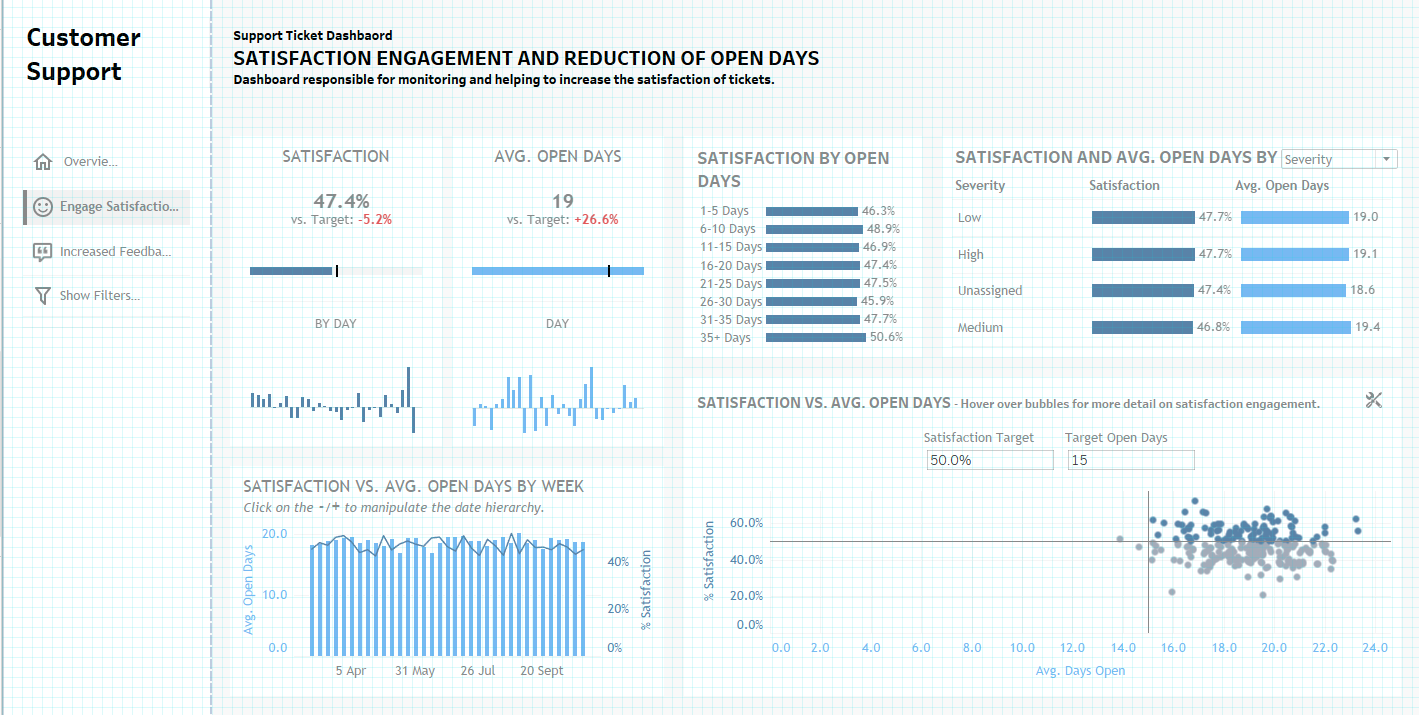

The page's visual inventory and layout, read from the dashboard file:
{"tool":"tableau","page":{"name":"Engage Satisfaction - Light","canvas":[1420,720],"ordinal":0},"visuals":[{"type":"text","box":[1,1,206,110]},{"type":"blank","box":[207,1,1,110]},{"type":"text","box":[208,1,1211,118]},{"type":"text","box":[970,87,265,60]},{"type":"blank","box":[1,111,207,32]},{"type":"blank","box":[221,129,450,125]},{"type":"text","box":[228,139,212,30]},{"type":"text","box":[450,139,212,30]},{"type":"text","box":[682,139,238,56]},{"type":"text","box":[940,139,336,36]},{"type":"parameter","param":"[Parameters].[Parâmetro 5]","box":[1276,139,123,36]},{"type":"blank","box":[970,147,265,7]},{"type":"blank","box":[21,148,4,35]},{"type":"image","param":"Image/Home.png","box":[25,148,30,35]},{"type":"dashboard-object","box":[55,148,75,35]},{"type":"blank","box":[130,148,58,35]},{"type":"text","box":[970,154,265,310]},{"type":"worksheet","title":"Engage Satisfaction Light - Satisfaction Engage","mark":"Square","box":[228,169,212,75]},{"type":"worksheet","title":"Engage Satisfaction Light -  Avg. Days Open","mark":"Square","box":[450,169,212,75]},{"type":"text","box":[950,175,134,27]},{"type":"text","box":[1084,175,146,27]},{"type":"text","box":[1230,175,159,27]},{"type":"blank","box":[21,193,4,35]},{"type":"image","param":"Image/Engage.png","box":[25,193,30,35]},{"type":"dashboard-object","box":[55,193,126,35]},{"type":"blank","box":[181,193,7,35]},{"type":"worksheet","title":"Engage Satisfaction Light - Tickets by Open Days","mark":"Bar","rows":["Calculation_390968786374774788"],"cols":["Calculation_719731557468495874"],"box":[682,195,238,165]},{"type":"worksheet","title":"Engage Satisfaction Light - Tickets by Satisfication Score","mark":"Automatic","rows":["Calculation_925771243168632832"],"cols":["Calculation_719731557468495874","days_open"],"box":[940,202,459,158]},{"type":"blank","box":[21,238,4,35]},{"type":"image","param":"Image/Feedback.png","box":[25,238,30,35]},{"type":"dashboard-object","box":[55,238,123,35]},{"type":"blank","box":[178,238,10,35]},{"type":"worksheet","title":"Engage Satisfaction Light - Satisfaction vs. Target","mark":"Bar","box":[228,244,212,60]},{"type":"worksheet","title":"Engage Satisfaction Light - Avg. Open Days vs. Target Bar","mark":"Bar","box":[450,244,212,60]},{"type":"blank","box":[1,278,207,1]},{"type":"blank","box":[21,284,4,30]},{"type":"image","param":"Image/Filter Menu.png","box":[25,284,30,30]},{"type":"dashboard-object","box":[55,284,88,30]},{"type":"blank","box":[143,284,45,30]},{"type":"blank","box":[215,302,473,57]},{"type":"blank","box":[228,304,212,1]},{"type":"blank","box":[450,304,212,1]},{"type":"worksheet","title":"Engage Satisfaction Light - Satisfaction MoM","mark":"Square","box":[228,305,212,52]},{"type":"worksheet","title":"Engage Satisfaction Light - Open Days MoM","mark":"Square","box":[450,305,212,52]},{"type":"blank","box":[1,319,207,6]},{"type":"parameter","param":"[Parameters].[Parâmetro 4]","box":[21,319,84,45]},{"type":"filter","title":"Engage Satisfaction Light -  Avg. Days Open","param":"[federated.0cysz861ktjxcq1fd9xv01acxm97].[none:Calculation_390968786373120002:ok","box":[105,319,83,45]},{"type":"blank","box":[1,325,207,11]},{"type":"blank","box":[1,336,207,383]},{"type":"worksheet","title":"Engage Satisfaction Light - Satisfaction MoM by Day","mark":"Bar","rows":["Calculation_526076775539757082"],"cols":["created_date"],"box":[228,357,212,92]},{"type":"worksheet","title":"Engage Satisfaction Light - Open Days MoM by Day","mark":"Bar","rows":["% Satisfied Month Var (cópia)_526076775546671138"],"cols":["created_date"],"box":[450,357,212,92]},{"type":"filter","title":"Engage Satisfaction Light -  Avg. Days Open","param":"[federated.0cysz861ktjxcq1fd9xv01acxm97].[none:severity:nk]","box":[21,364,167,45]},{"type":"text","box":[682,380,672,45]},{"type":"dashboard-object","box":[1354,380,45,45]},{"type":"filter","title":"Engage Satisfaction Light - Satisfaction Engage","param":"[federated.0cysz861ktjxcq1fd9xv01acxm97].[ticket status (grupo)]","box":[21,409,167,45]},{"type":"blank","box":[686,429,232,51]},{"type":"parameter","param":"[Parameters].[Parâmetro 3]","box":[918,429,141.5,51]},{"type":"parameter","param":"[Parameters].[Target Satisfaction (cópia)_526076775526744074]","box":[1059.5,429,141.5,51]},{"type":"blank","box":[1201,429,194,51]},{"type":"text","box":[228,469,434,50]},{"type":"worksheet","title":"Engage Satisfaction Light - Satisfaction vs, Avg Days Open","mark":"Circle","rows":["Calculation_719731557468495874"],"cols":["days_open"],"box":[682,484,717,215]},{"type":"worksheet","title":"Engage Satisfaction Light - Satisfaction vs. Open Day by Week","mark":"Automatic","rows":["days_open","Calculation_719731557468495874"],"cols":["created_date"],"box":[228,519,434,180]}]}

Visuals, with their boxes on the page's 1420x720 design canvas (x1, y1, x2, y2). These are canvas units, not pixel positions in the 1419x715 screenshot, which may show the page scaled, cropped or inside an application window:
text: region(1, 1, 207, 111)
blank: region(207, 1, 208, 111)
text: region(208, 1, 1419, 119)
text: region(970, 87, 1235, 147)
blank: region(1, 111, 208, 143)
blank: region(221, 129, 671, 254)
text: region(228, 139, 440, 169)
text: region(450, 139, 662, 169)
text: region(682, 139, 920, 195)
text: region(940, 139, 1276, 175)
parameter: region(1276, 139, 1399, 175)
blank: region(970, 147, 1235, 154)
blank: region(21, 148, 25, 183)
image: region(25, 148, 55, 183)
dashboard-object: region(55, 148, 130, 183)
blank: region(130, 148, 188, 183)
text: region(970, 154, 1235, 464)
"Engage Satisfaction Light - Satisfaction Engage" worksheet (Square marks): region(228, 169, 440, 244)
"Engage Satisfaction Light -  Avg. Days Open" worksheet (Square marks): region(450, 169, 662, 244)
text: region(950, 175, 1084, 202)
text: region(1084, 175, 1230, 202)
text: region(1230, 175, 1389, 202)
blank: region(21, 193, 25, 228)
image: region(25, 193, 55, 228)
dashboard-object: region(55, 193, 181, 228)
blank: region(181, 193, 188, 228)
"Engage Satisfaction Light - Tickets by Open Days" worksheet (Bar marks): region(682, 195, 920, 360)
"Engage Satisfaction Light - Tickets by Satisfication Score" worksheet: region(940, 202, 1399, 360)
blank: region(21, 238, 25, 273)
image: region(25, 238, 55, 273)
dashboard-object: region(55, 238, 178, 273)
blank: region(178, 238, 188, 273)
"Engage Satisfaction Light - Satisfaction vs. Target" worksheet (Bar marks): region(228, 244, 440, 304)
"Engage Satisfaction Light - Avg. Open Days vs. Target Bar" worksheet (Bar marks): region(450, 244, 662, 304)
blank: region(1, 278, 208, 279)
blank: region(21, 284, 25, 314)
image: region(25, 284, 55, 314)
dashboard-object: region(55, 284, 143, 314)
blank: region(143, 284, 188, 314)
blank: region(215, 302, 688, 359)
blank: region(228, 304, 440, 305)
blank: region(450, 304, 662, 305)
"Engage Satisfaction Light - Satisfaction MoM" worksheet (Square marks): region(228, 305, 440, 357)
"Engage Satisfaction Light - Open Days MoM" worksheet (Square marks): region(450, 305, 662, 357)
blank: region(1, 319, 208, 325)
parameter: region(21, 319, 105, 364)
"Engage Satisfaction Light -  Avg. Days Open" filter: region(105, 319, 188, 364)
blank: region(1, 325, 208, 336)
blank: region(1, 336, 208, 719)
"Engage Satisfaction Light - Satisfaction MoM by Day" worksheet (Bar marks): region(228, 357, 440, 449)
"Engage Satisfaction Light - Open Days MoM by Day" worksheet (Bar marks): region(450, 357, 662, 449)
"Engage Satisfaction Light -  Avg. Days Open" filter: region(21, 364, 188, 409)
text: region(682, 380, 1354, 425)
dashboard-object: region(1354, 380, 1399, 425)
"Engage Satisfaction Light - Satisfaction Engage" filter: region(21, 409, 188, 454)
blank: region(686, 429, 918, 480)
parameter: region(918, 429, 1060, 480)
parameter: region(1060, 429, 1201, 480)
blank: region(1201, 429, 1395, 480)
text: region(228, 469, 662, 519)
"Engage Satisfaction Light - Satisfaction vs, Avg Days Open" worksheet (Circle marks): region(682, 484, 1399, 699)
"Engage Satisfaction Light - Satisfaction vs. Open Day by Week" worksheet: region(228, 519, 662, 699)
